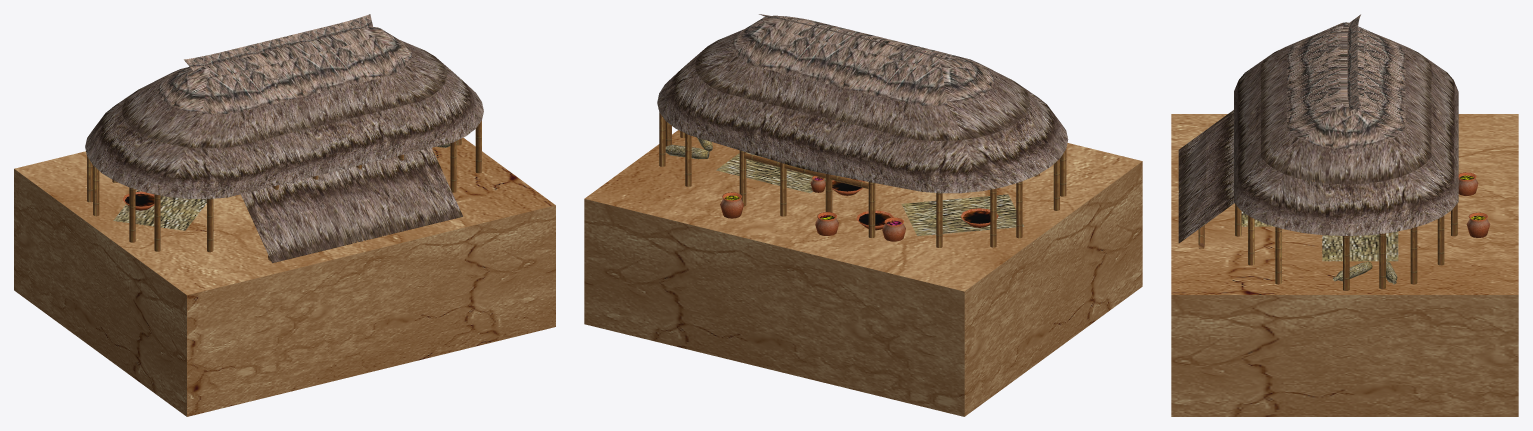
Rendered from inca_market.dae.
The picture shows the model from 3 angles, left to right: view 1: azimuth 30°, elevation 25°; view 2: azimuth 150°, elevation 25°; view 3: azimuth 270°, elevation 25°; orthographic projection. The views are drawn at different scales.
Visible parts, largest first — view 1: omagua_market; view 2: omagua_market; view 3: omagua_market.
Boxes of the visible parts, x1,y1,x2,y2 form: omagua_market: [14, 14, 555, 416]; omagua_market: [584, 14, 1142, 416]; omagua_market: [1171, 14, 1518, 416].
Size of the model in its own units: 31.09 by 25.24 by 21.42.
